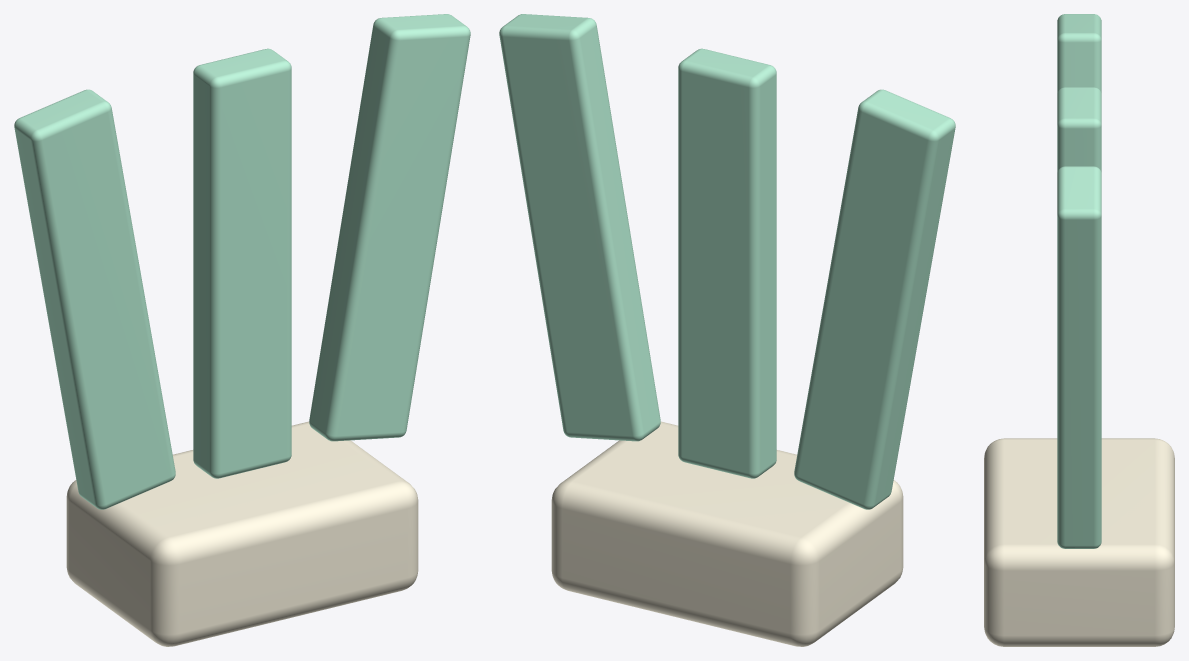
File: grass_candy_small.glb
3 renders of one model, left to right at view 1: azimuth 30°, elevation 25°; view 2: azimuth 150°, elevation 25°; view 3: azimuth 270°, elevation 25°, orthographic. The views are drawn at different scales.
Parts seen in each view (by area): view 1: CandyGrassSmall_CreamBase, CandyGrassSmall_Blade2, CandyGrassSmall_Blade1, CandyGrassSmall_Blade0; view 2: CandyGrassSmall_CreamBase, CandyGrassSmall_Blade2, CandyGrassSmall_Blade1, CandyGrassSmall_Blade0; view 3: CandyGrassSmall_CreamBase, CandyGrassSmall_Blade2, CandyGrassSmall_Blade1, CandyGrassSmall_Blade0.
Boxes of the visible parts, bbox=[...] form: CandyGrassSmall_CreamBase: bbox=[66, 421, 418, 646]; CandyGrassSmall_Blade2: bbox=[309, 14, 470, 441]; CandyGrassSmall_Blade1: bbox=[193, 48, 291, 478]; CandyGrassSmall_Blade0: bbox=[14, 89, 175, 509]; CandyGrassSmall_CreamBase: bbox=[551, 421, 903, 646]; CandyGrassSmall_Blade2: bbox=[499, 14, 660, 441]; CandyGrassSmall_Blade1: bbox=[678, 48, 776, 478]; CandyGrassSmall_Blade0: bbox=[794, 89, 955, 509]; CandyGrassSmall_CreamBase: bbox=[984, 438, 1174, 646]; CandyGrassSmall_Blade2: bbox=[1057, 166, 1101, 548]; CandyGrassSmall_Blade1: bbox=[1057, 87, 1101, 172]; CandyGrassSmall_Blade0: bbox=[1057, 14, 1101, 92].
Bounding box in the file's own units: 0.2977 × 0.342 × 0.12.
